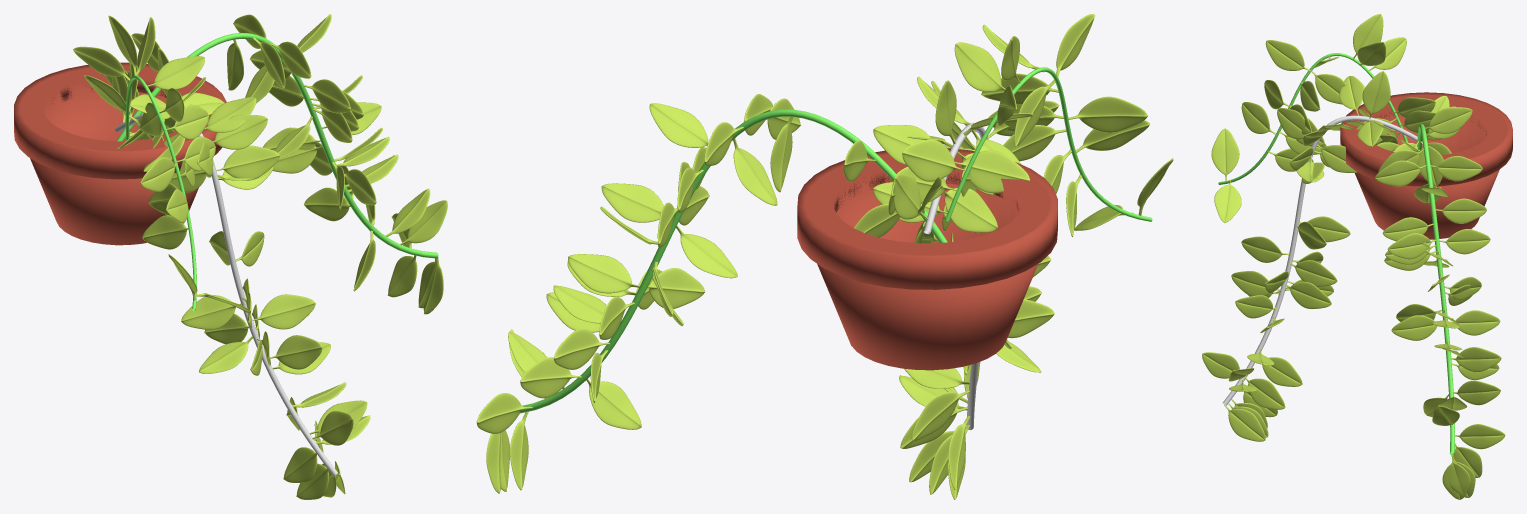
The model's file is A ver con esta2 .fbx.
The picture shows the model from 3 angles, left to right: view 1: azimuth 30°, elevation 25°; view 2: azimuth 150°, elevation 25°; view 3: azimuth 270°, elevation 25°; orthographic projection. The views are drawn at different scales.
Parts seen in each view (by area): view 1: Circle.007, NurbsPath, NurbsPath.001, NurbsPath.001|Plane.002|Dupli|17, NurbsPath.001|Plane.002|Dupli|26, NurbsPath.001|Plane.002|Dupli|18, NurbsPath.003|Plane.002|Dupli|11, NurbsPath.001|Plane.002|Dupli|11, NurbsPath.003, NurbsPath.001|Plane.002|Dupli|29, NurbsPath.001|Plane.002|Dupli|30, NurbsPath.003|Plane.002|Dupli|2 (+42 smaller); view 2: Circle.007, NurbsPath, NurbsPath|Plane.002|Dupli|16, NurbsPath.003|Plane.002|Dupli|7, NurbsPath|Plane.002|Dupli|22, NurbsPath.003, NurbsPath.001|Plane.002|Dupli|36, NurbsPath|Plane.002|Dupli|28, NurbsPath.003|Plane.002|Dupli|15, NurbsPath.003|Plane.002|Dupli|13, NurbsPath|Plane.002|Dupli|6, NurbsPath.001|Plane.002|Dupli|38 (+27 smaller); view 3: Circle.007, NurbsPath.001, NurbsPath, NurbsPath.003|Plane.002|Dupli|, NurbsPath.001|Plane.002|Dupli|2, NurbsPath.001|Plane.002|Dupli|33, NurbsPath.003|Plane.002|Dupli|10, NurbsPath|Plane.002|Dupli|34, NurbsPath|Plane.002|Dupli|30, NurbsPath|Plane.002|Dupli|31, NurbsPath.003, NurbsPath|Plane.002|Dupli|3 (+42 smaller).
Boxes of the visible parts, left/top/right/bottom form: Circle.007: left=14, top=62, right=226, bottom=245; NurbsPath: left=116, top=33, right=438, bottom=258; NurbsPath.001: left=115, top=114, right=337, bottom=476; NurbsPath.001|Plane.002|Dupli|17: left=252, top=294, right=315, bottom=329; NurbsPath.001|Plane.002|Dupli|26: left=216, top=145, right=279, bottom=180; NurbsPath.001|Plane.002|Dupli|18: left=181, top=295, right=241, bottom=329; NurbsPath.003|Plane.002|Dupli|11: left=147, top=56, right=204, bottom=89; NurbsPath.001|Plane.002|Dupli|11: left=270, top=335, right=322, bottom=369; NurbsPath.003: left=125, top=75, right=196, bottom=310; NurbsPath.001|Plane.002|Dupli|29: left=213, top=115, right=267, bottom=149; NurbsPath.001|Plane.002|Dupli|30: left=203, top=97, right=256, bottom=132; NurbsPath.003|Plane.002|Dupli|2: left=142, top=215, right=188, bottom=249; Circle.007: left=797, top=148, right=1057, bottom=370; NurbsPath: left=520, top=109, right=947, bottom=413; NurbsPath|Plane.002|Dupli|16: left=568, top=254, right=639, bottom=293; NurbsPath.003|Plane.002|Dupli|7: left=1068, top=96, right=1147, bottom=132; NurbsPath|Plane.002|Dupli|22: left=601, top=183, right=663, bottom=222; NurbsPath.003: left=945, top=67, right=1152, bottom=221; NurbsPath.001|Plane.002|Dupli|36: left=954, top=150, right=1029, bottom=193; NurbsPath|Plane.002|Dupli|28: left=649, top=103, right=708, bottom=147; NurbsPath.003|Plane.002|Dupli|15: left=902, top=139, right=965, bottom=181; NurbsPath.003|Plane.002|Dupli|13: left=954, top=42, right=1005, bottom=91; NurbsPath|Plane.002|Dupli|6: left=586, top=379, right=641, bottom=429; NurbsPath.001|Plane.002|Dupli|38: left=943, top=187, right=997, bottom=232; Circle.007: left=1340, top=92, right=1512, bottom=239; NurbsPath.001: left=1223, top=115, right=1422, bottom=405; NurbsPath: left=1417, top=124, right=1454, bottom=455; NurbsPath.003|Plane.002|Dupli|: left=1211, top=128, right=1239, bottom=181; NurbsPath.001|Plane.002|Dupli|2: left=1224, top=404, right=1265, bottom=441; NurbsPath.001|Plane.002|Dupli|33: left=1362, top=71, right=1390, bottom=118; NurbsPath.003|Plane.002|Dupli|10: left=1265, top=40, right=1310, bottom=71; NurbsPath|Plane.002|Dupli|34: left=1425, top=107, right=1472, bottom=133; NurbsPath|Plane.002|Dupli|30: left=1375, top=160, right=1426, bottom=186; NurbsPath|Plane.002|Dupli|31: left=1430, top=156, right=1482, bottom=181; NurbsPath.003: left=1218, top=53, right=1408, bottom=184; NurbsPath|Plane.002|Dupli|3: left=1454, top=424, right=1505, bottom=449.
Size of the model in its own units: 74.47 by 76.37 by 58.04.
